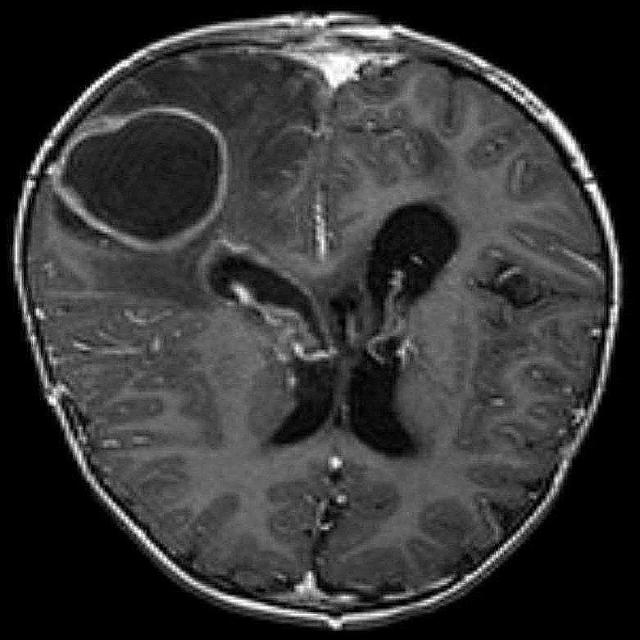Tumor-Cell: (78, 120, 248, 248)
